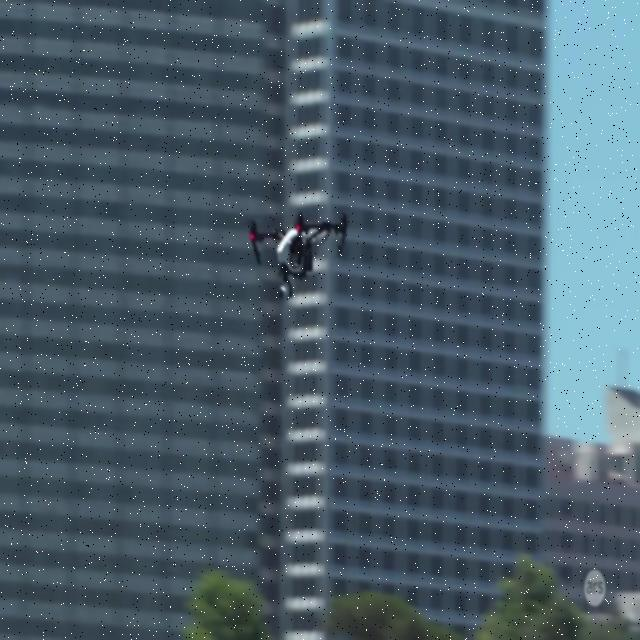UAV: (250, 212, 348, 298)
